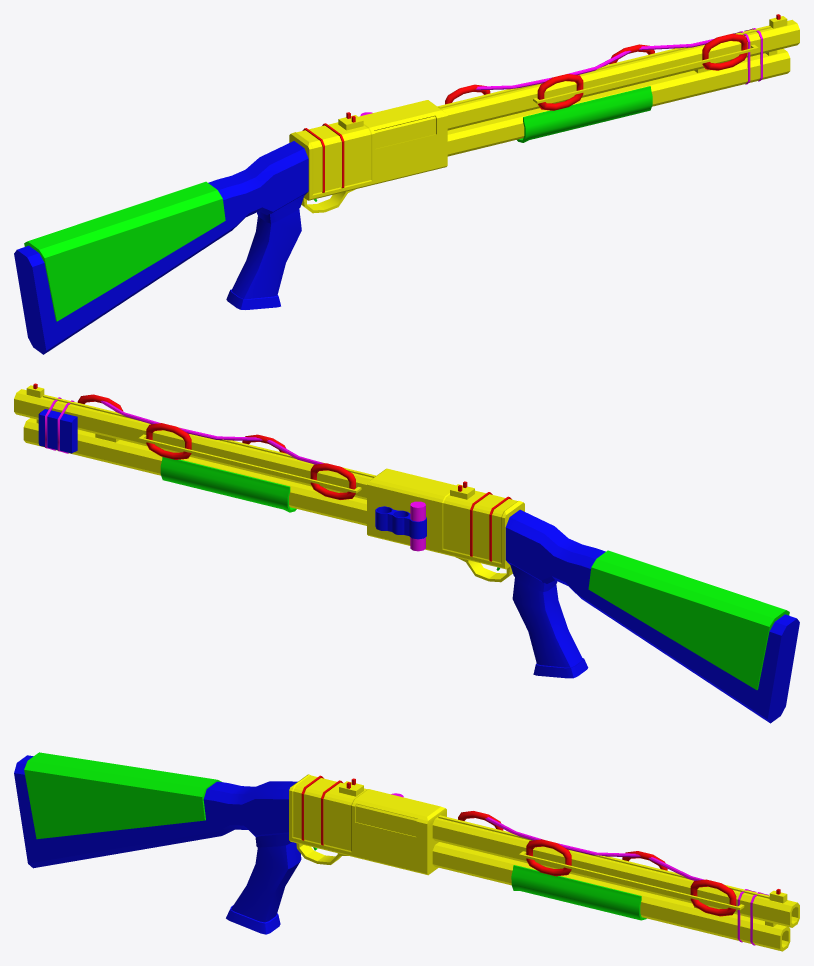
Rendered from SM_shotgun_01.FBX.
3 views of the same model, one above another, from view 1: azimuth 30°, elevation 25°; view 2: azimuth 150°, elevation 25°; view 3: azimuth 330°, elevation 25° (orthographic).
Parts seen in each view (by area): view 1: SM_Shotgun; view 2: SM_Shotgun; view 3: SM_Shotgun.
Boxes of the visible parts, left/top/right/bottom form: SM_Shotgun: left=14, top=14, right=799, bottom=354; SM_Shotgun: left=14, top=383, right=799, bottom=723; SM_Shotgun: left=14, top=752, right=799, bottom=951.
Bounding box in the file's own units: 112 × 23.12 × 7.31.
